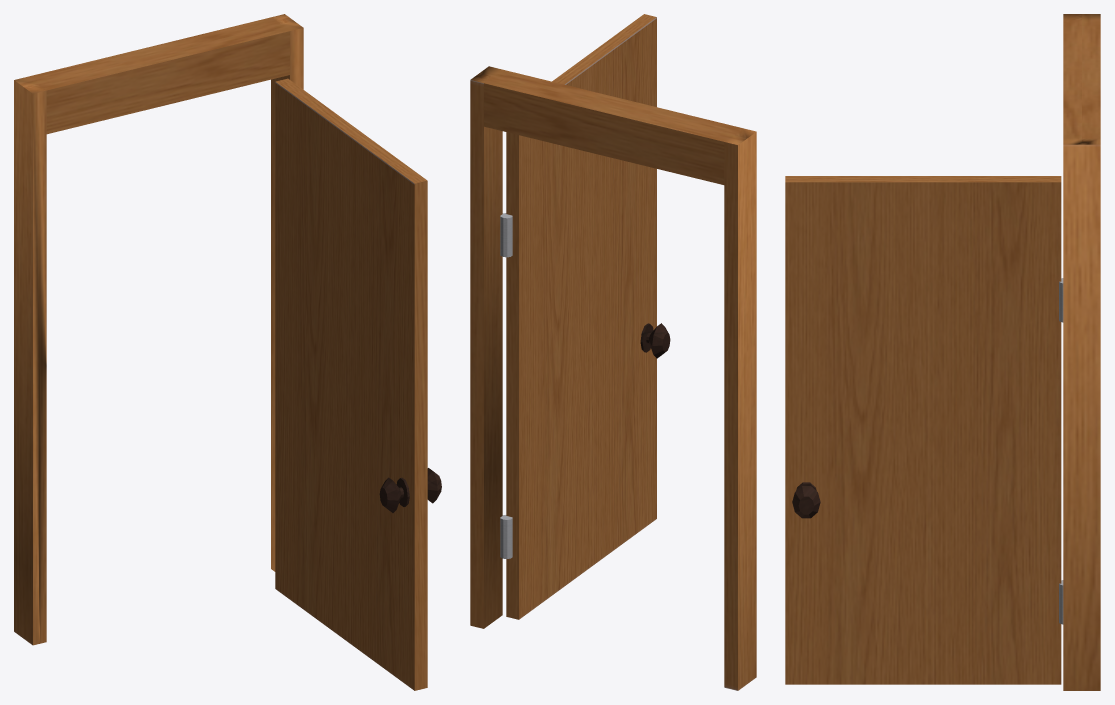
Rendered from iç kapılar yeni.fbx.
3 views of the same model, side by side, from view 1: azimuth 30°, elevation 25°; view 2: azimuth 150°, elevation 25°; view 3: azimuth 270°, elevation 25° (orthographic).
Parts seen in each view (by area): view 1: Plane.003, Plane.002; view 2: Plane.003, Plane.002; view 3: Plane.003, Plane.002.
Boxes of the visible parts, x1,y1,x2,y2 form: Plane.003: (275, 78, 441, 690); Plane.002: (14, 14, 303, 645); Plane.003: (506, 14, 670, 619); Plane.002: (470, 66, 756, 690); Plane.003: (785, 176, 1061, 684); Plane.002: (1059, 14, 1100, 690).
Bounding box in the file's own units: 102 × 195 × 102.
Materials: 1 (1 with a texture image).
